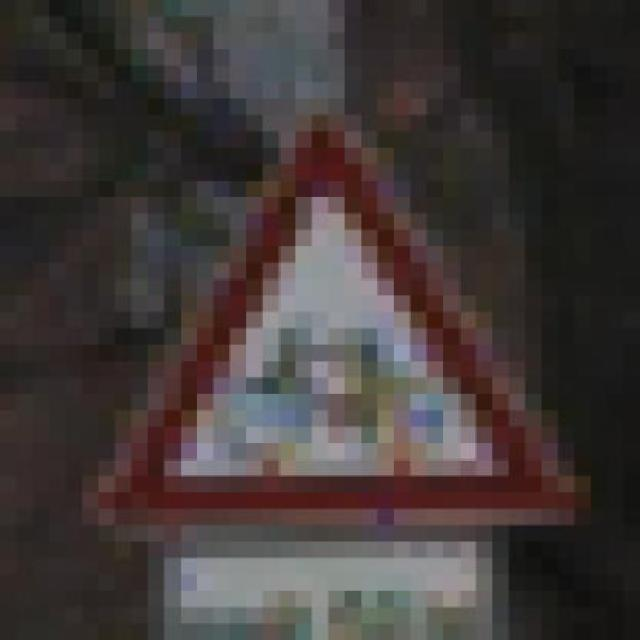CYCLE ROUTE AHEAD WARNING: (98, 99, 591, 558)
